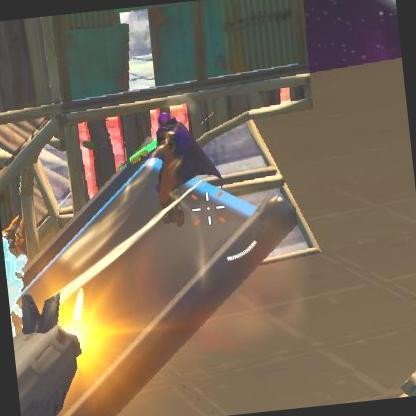person: (145, 106, 226, 210)
